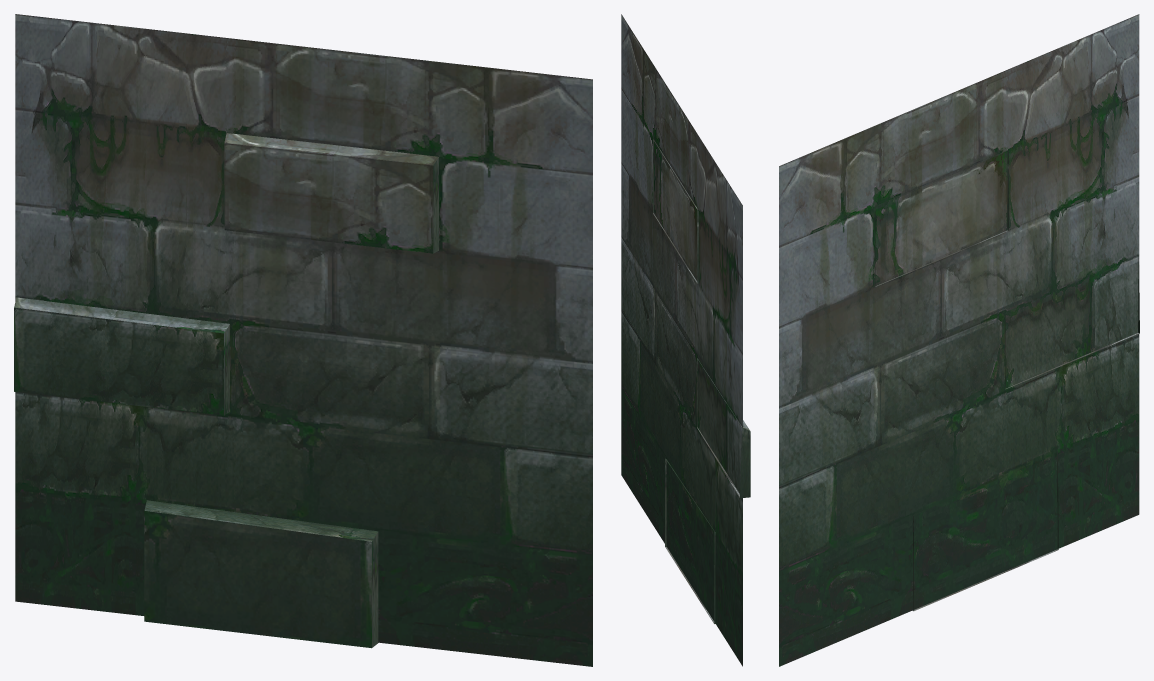
Rendered from stemple_wall_diagonal_03.fbx.
The picture shows the model from 3 angles, left to right: view 1: azimuth 30°, elevation 25°; view 2: azimuth 150°, elevation 25°; view 3: azimuth 270°, elevation 25°; orthographic projection. The views are drawn at different scales.
Visible parts, largest first — view 1: sunken_tileset/sunken_wall_straight06_mat; view 2: sunken_tileset/sunken_wall_straight06_mat; view 3: sunken_tileset/sunken_wall_straight06_mat.
Boxes of the visible parts, x1,y1,x2,y2 form: sunken_tileset/sunken_wall_straight06_mat: [14, 14, 592, 666]; sunken_tileset/sunken_wall_straight06_mat: [621, 14, 750, 666]; sunken_tileset/sunken_wall_straight06_mat: [779, 14, 1139, 666].
Size of the model in its own units: 3.64 by 5.51 by 3.59.
